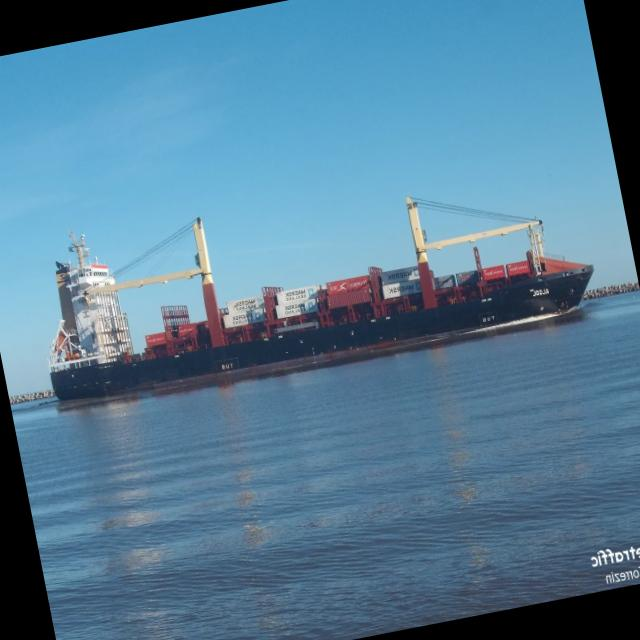Cargo: (50, 197, 593, 401)
